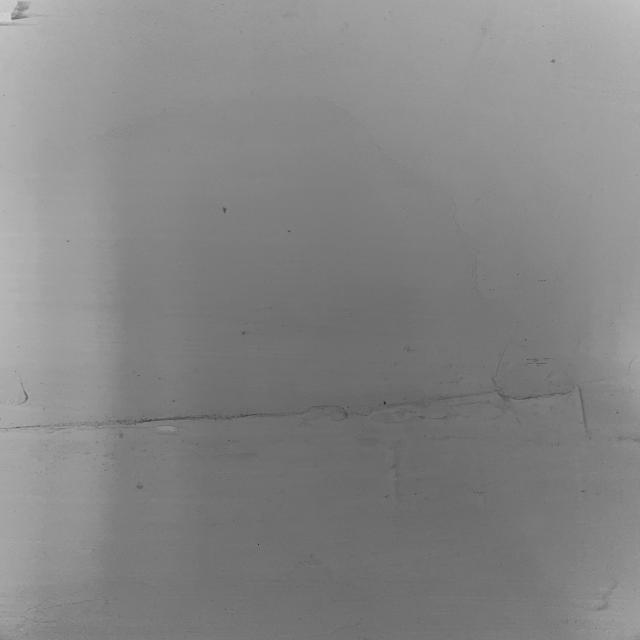rough and patchy surface: (0, 335, 640, 535), (570, 561, 621, 621), (0, 0, 55, 40)
